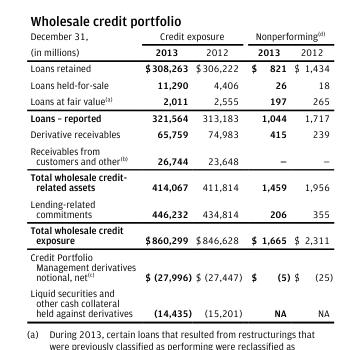table: (29, 28, 332, 318)
table column: (29, 28, 139, 318), (139, 28, 192, 318), (192, 28, 245, 318), (245, 28, 291, 318), (291, 28, 332, 318)
table column header: (29, 28, 332, 59)
table row: (29, 247, 332, 284), (29, 284, 332, 318), (29, 141, 332, 168), (29, 194, 332, 221), (29, 168, 332, 194), (29, 221, 332, 247), (29, 59, 332, 76), (29, 108, 332, 125), (29, 43, 332, 59), (29, 76, 332, 92), (29, 92, 332, 108), (29, 125, 332, 141), (29, 28, 332, 43)
table spanning cell: (29, 28, 139, 59), (139, 28, 245, 43), (245, 28, 332, 43)
